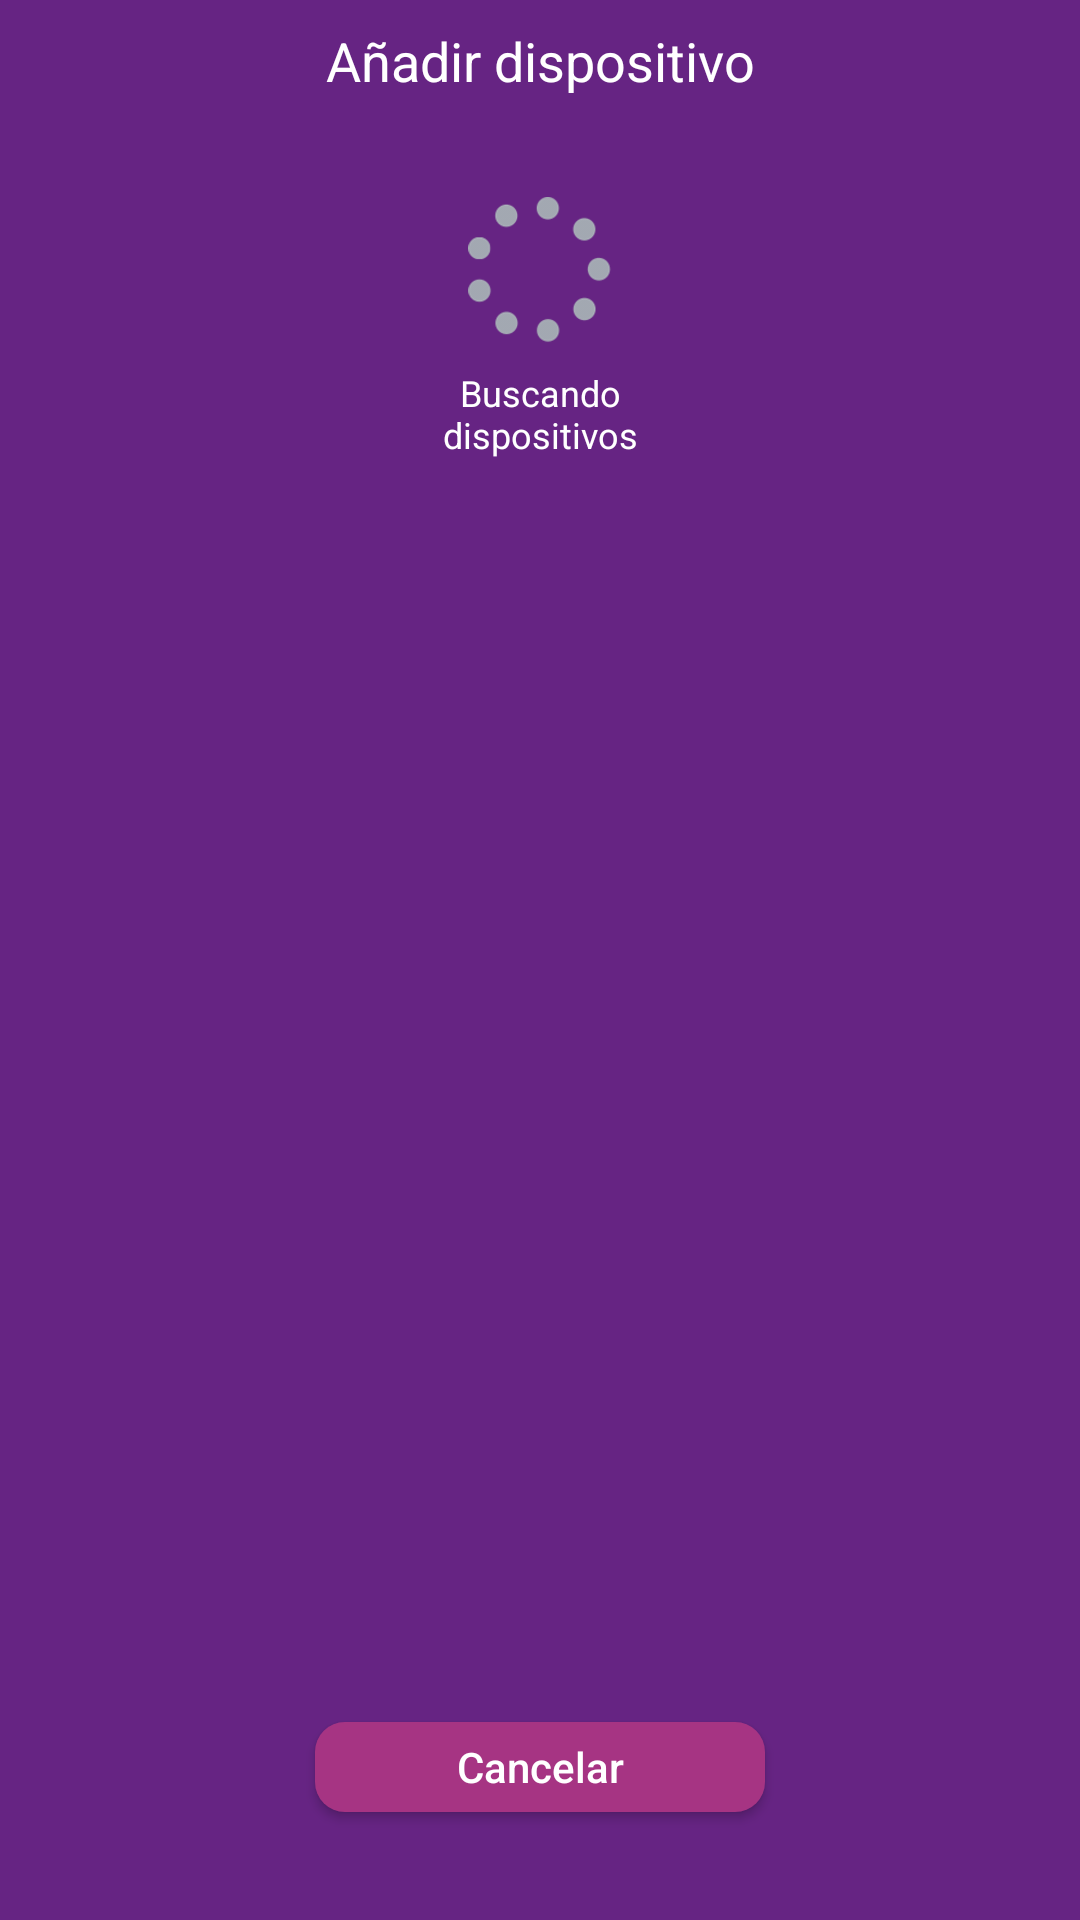

Point at icon controls on the screen. Image size 1080 x 1920, points as (x,y).
progress bar: (539,269)
